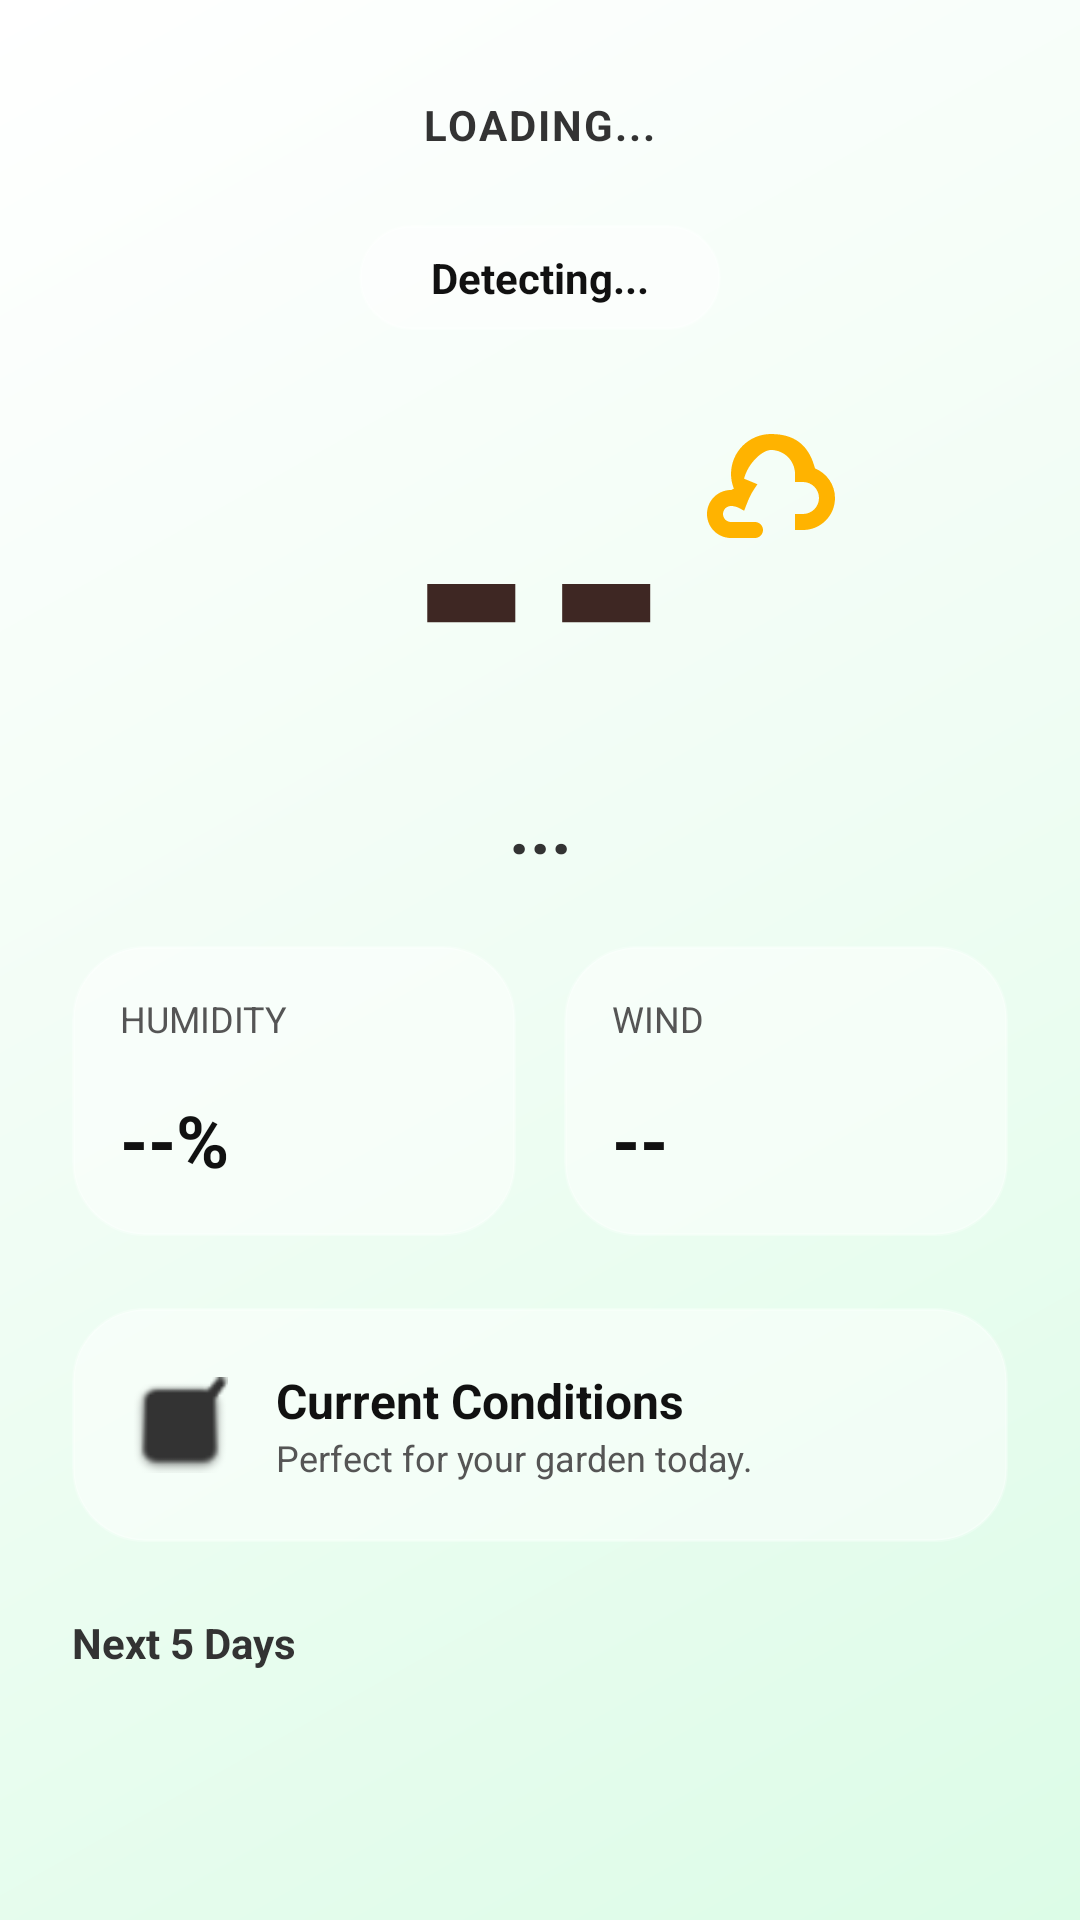

Point at icon controls on the screen. Image size 1080*1920, points as point (x, y).
weather illustration: point (771, 486)
